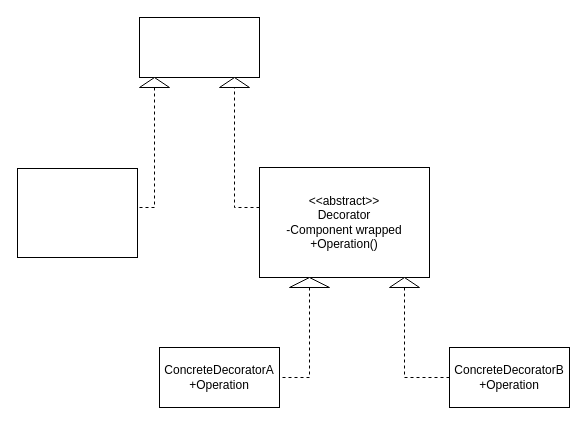
This 587x425 diagram has some shape labels left out. The shapes that lost their labels are listed below. From the top down, each one's box as (x1, y1, x2, y2) in pixels, then its label:
(138, 16, 260, 78): <<Interface>> Component +Operation()
(16, 168, 138, 258): ConcreteComponent +Operation()
